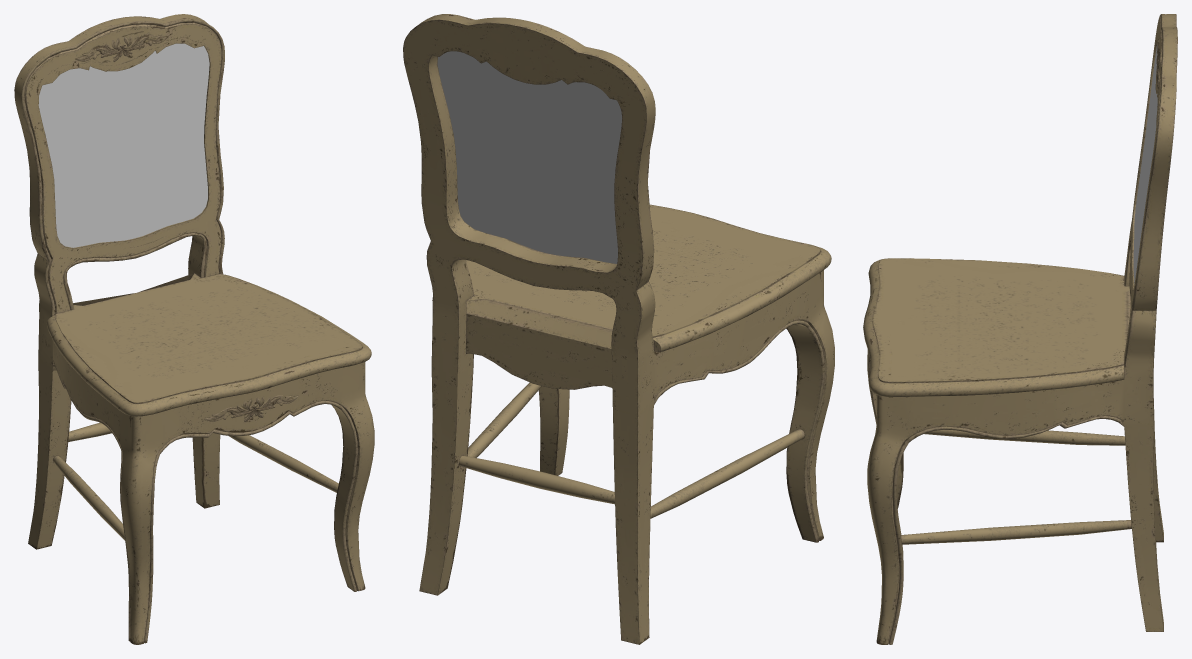
Rendered from example160.gltf.
The picture shows the model from 3 angles, left to right: view 1: azimuth 30°, elevation 25°; view 2: azimuth 150°, elevation 25°; view 3: azimuth 270°, elevation 25°; orthographic projection. The views are drawn at different scales.
Size of the model in its own units: 48.43 by 92.97 by 48.82.
